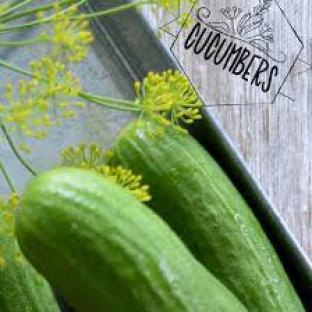Cucumber: (115, 118, 305, 311), (17, 168, 246, 311), (0, 215, 59, 311)
